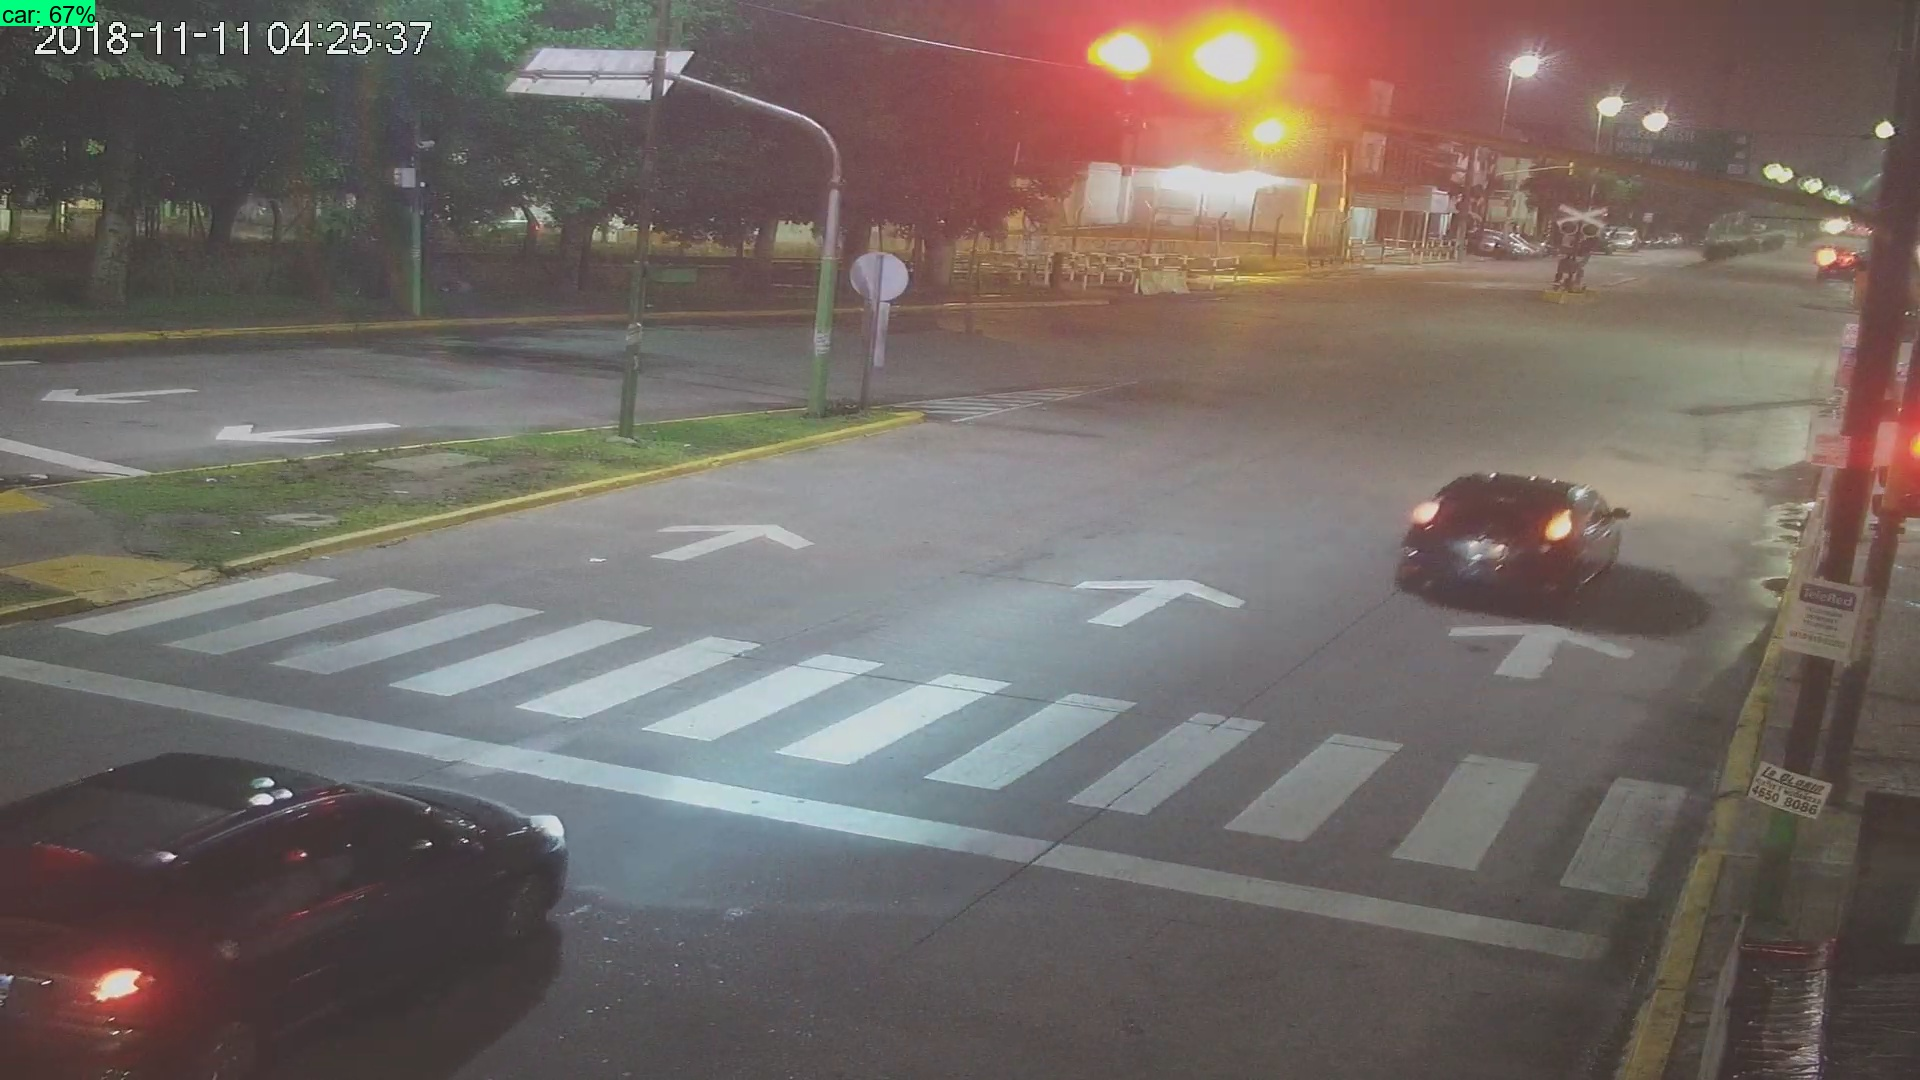car: (4, 746, 574, 1080), (1404, 471, 1627, 615)
